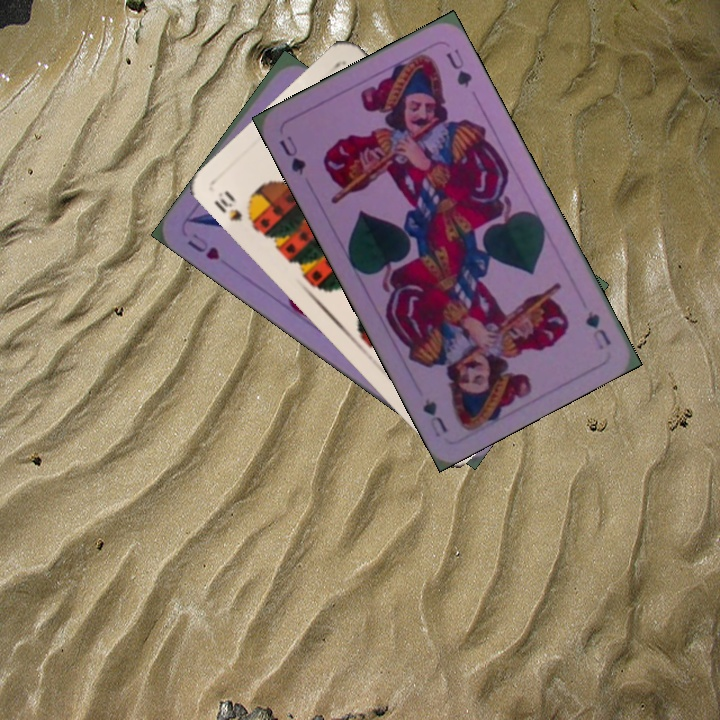GU: (275, 131, 309, 178), (581, 307, 614, 352)
HU: (183, 229, 222, 263)
S10: (209, 186, 258, 231)
